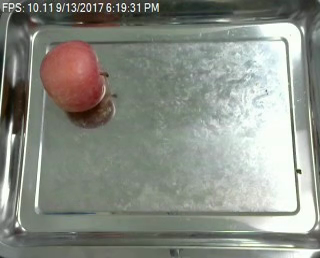Apple: (37, 39, 111, 114)
